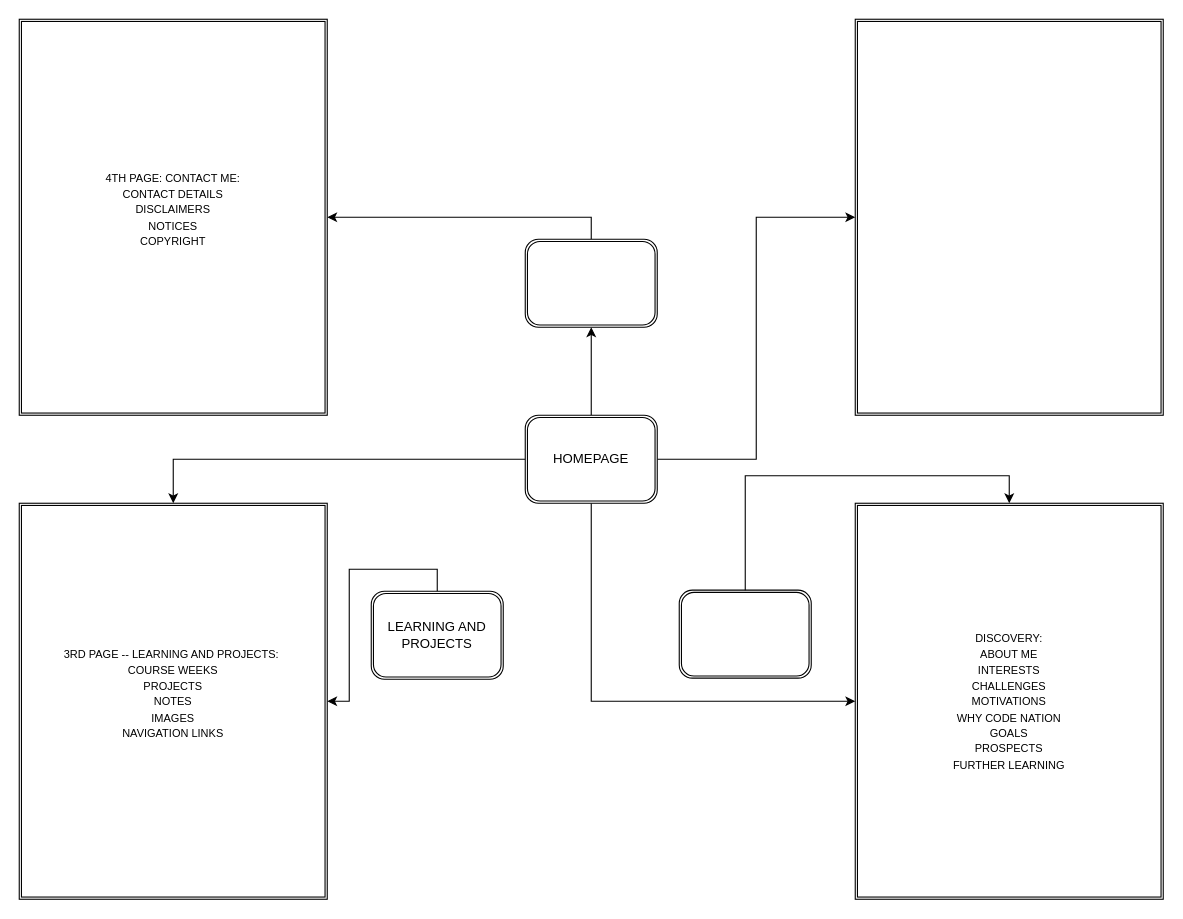
Image size: 1183x919. Some labels were removed from this diagram. Each missing label, with the centre of its shape:
"1ST PAGE -- HOMEPAGE: GREETING WELCOME MESSAGE INTRODUCTION BREIF OVERVIEW" belongs at point 1008,216.
"CONTACT ME" belongs at point 590,282.
"DISCOVERY" belongs at point 744,633.
